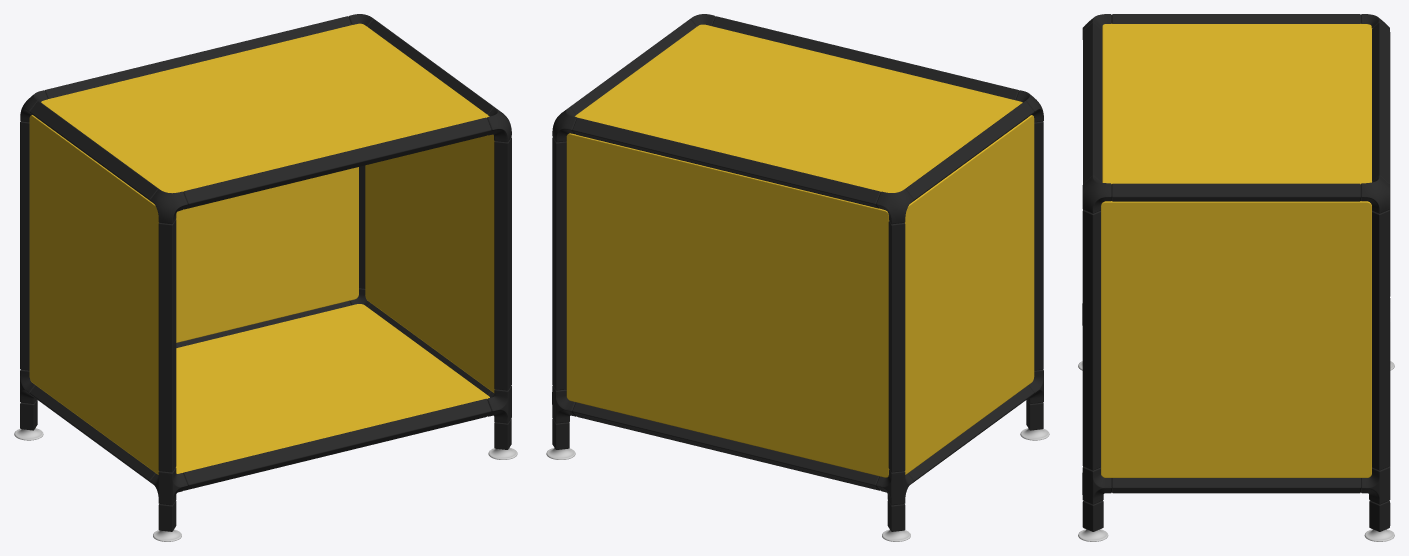
The picture shows the model from 3 angles, left to right: view 1: azimuth 30°, elevation 25°; view 2: azimuth 150°, elevation 25°; view 3: azimuth 270°, elevation 25°; orthographic projection. The views are drawn at different scales.
Visible parts, largest first — view 1: 479x329x374; view 2: 479x329x374; view 3: 479x329x374.
Part boxes in pixels (x1,y1,x2,y2): 479x329x374: (14,14,517,541); 479x329x374: (546,14,1049,541); 479x329x374: (1078,14,1394,541).
Size of the model in its own units: 0.5689 by 0.5133 by 0.4182.
